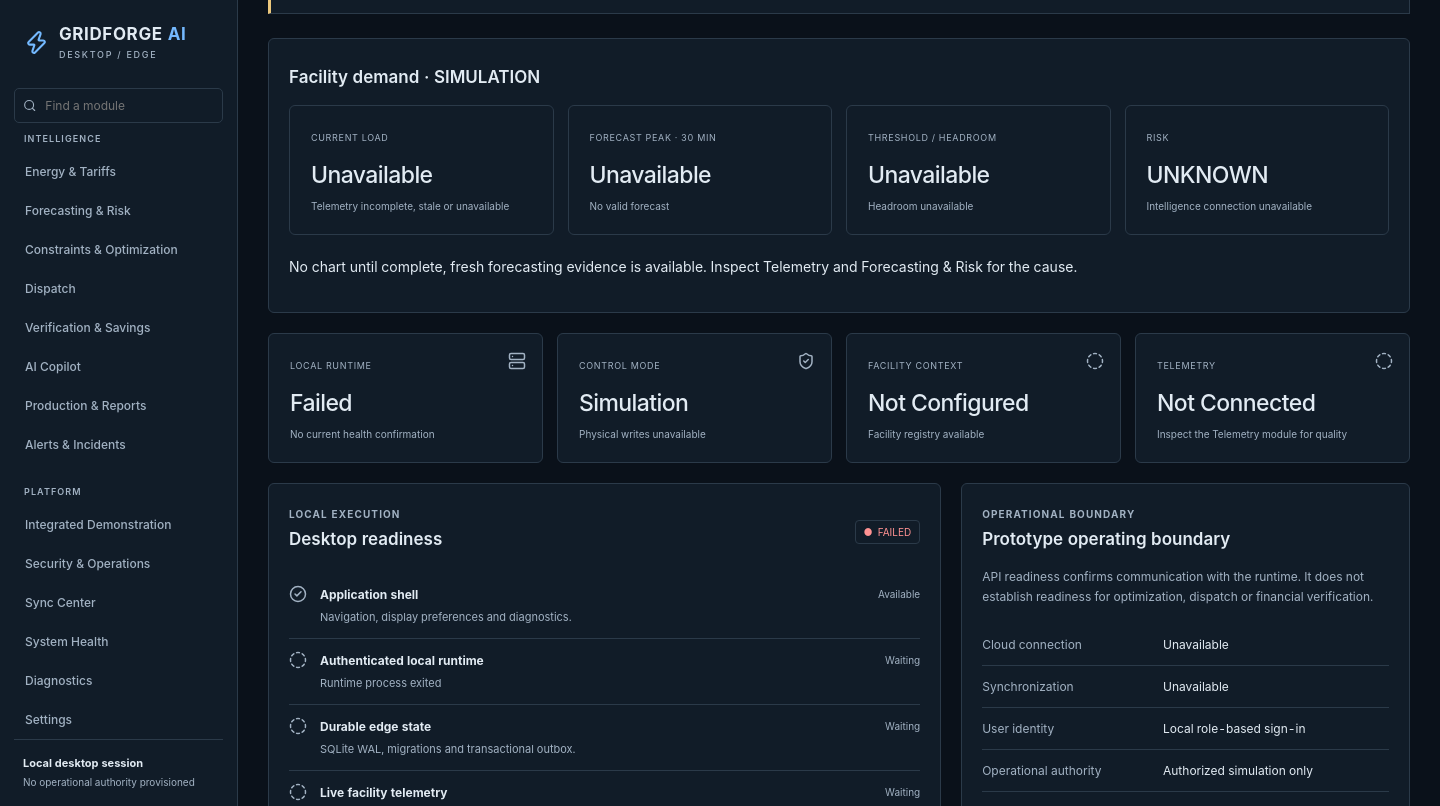
Test: Phase 1 desktop shell › shows native failure and can request a supervised restart
(page scrolled)
Click the button "System Health" at (118, 642), box [14,623,223,660]
(page scrolled)
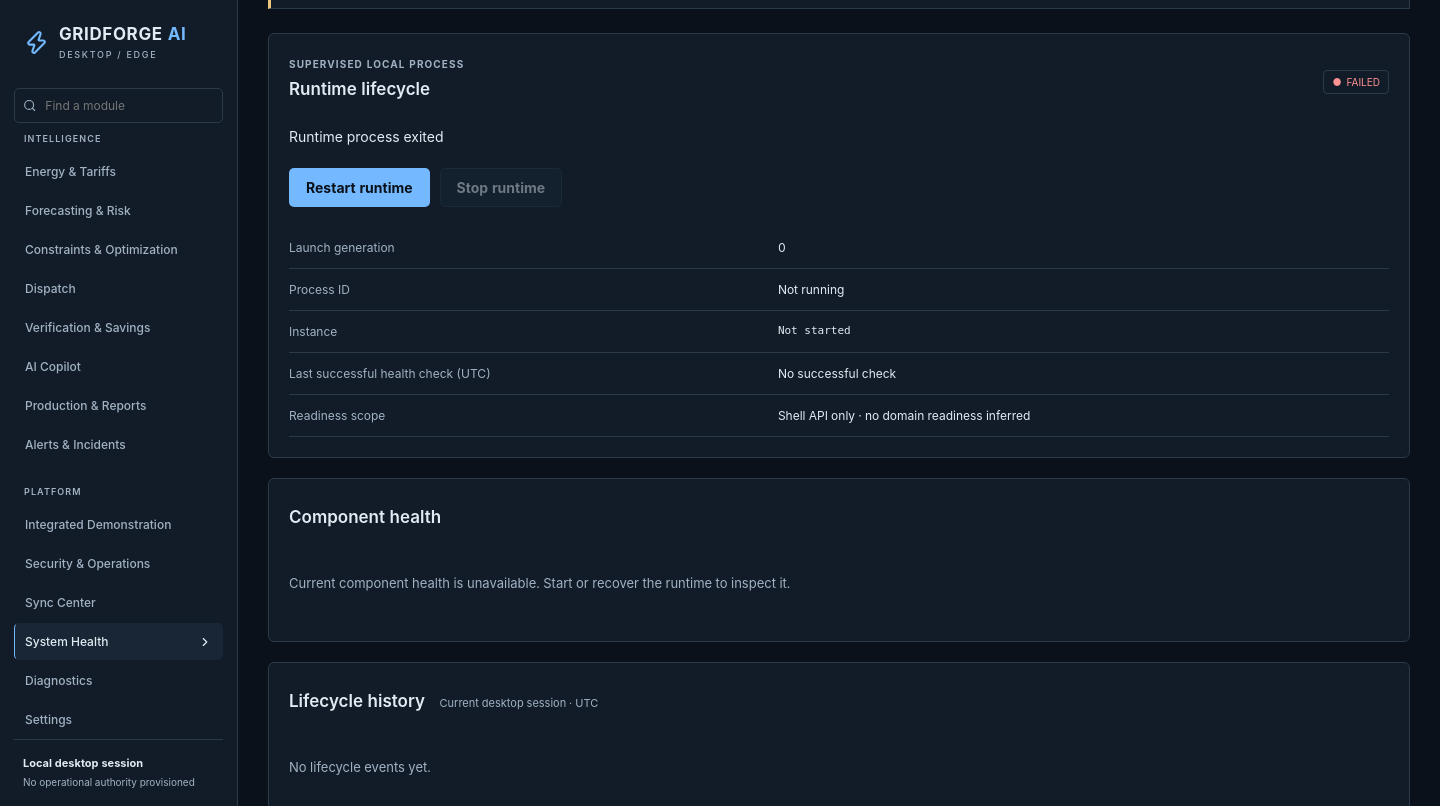
Check: the button "Restart runtime" is shown
Click the button "Restart runtime" at (359, 187), box [289,168,430,207]
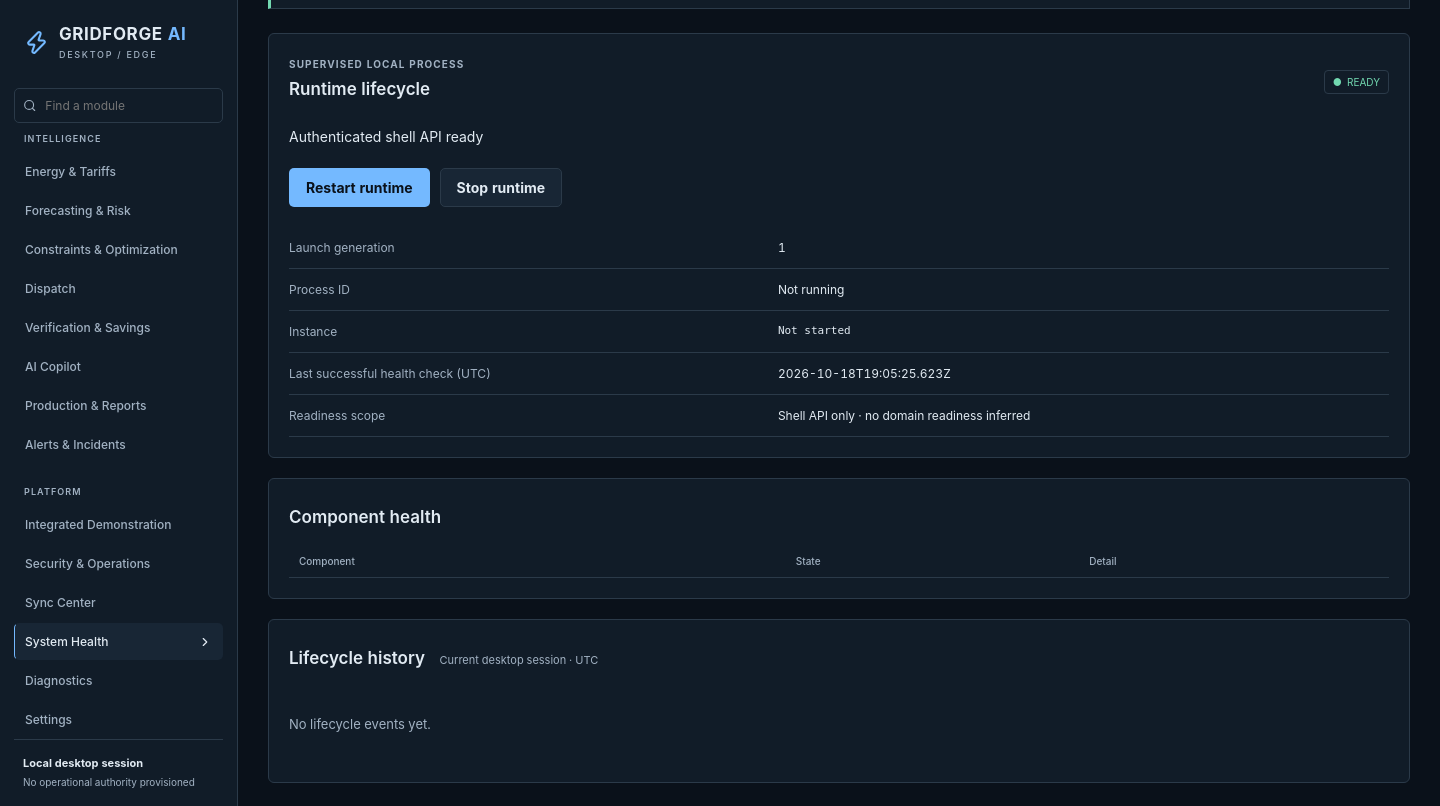
Check: the text "Authenticated shell API ready" is shown, box [289,128,483,145]
